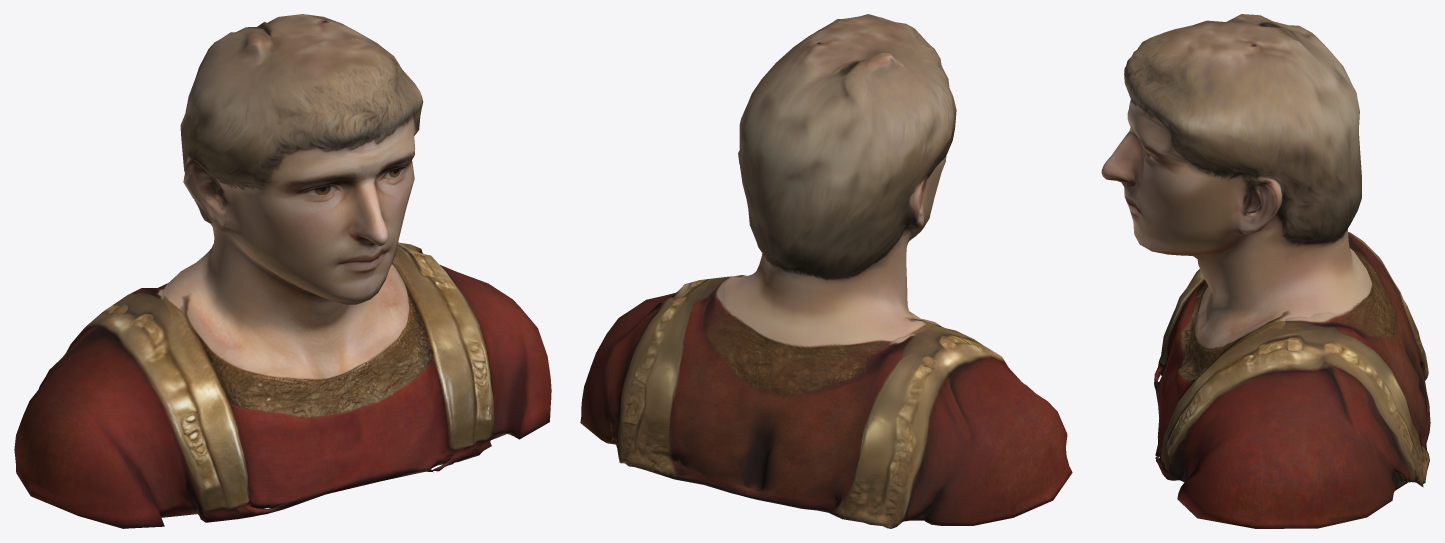
3 views of the same model, side by side, from view 1: azimuth 30°, elevation 25°; view 2: azimuth 150°, elevation 25°; view 3: azimuth 270°, elevation 25° (orthographic). The views are drawn at different scales.
Parts seen in each view (by area): view 1: Mesh_0; view 2: Mesh_0; view 3: Mesh_0.
Part boxes in pixels (bbox=[...]): Mesh_0: bbox=[14, 14, 551, 528]; Mesh_0: bbox=[580, 14, 1072, 528]; Mesh_0: bbox=[1101, 14, 1430, 528].
Bounding box in the file's own units: 1.83 × 1.5 × 1.15.
Materials: 1 (1 with a texture image).
